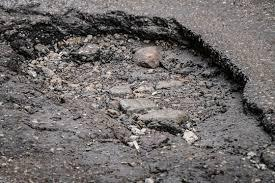pothole: (17, 12, 273, 163)
